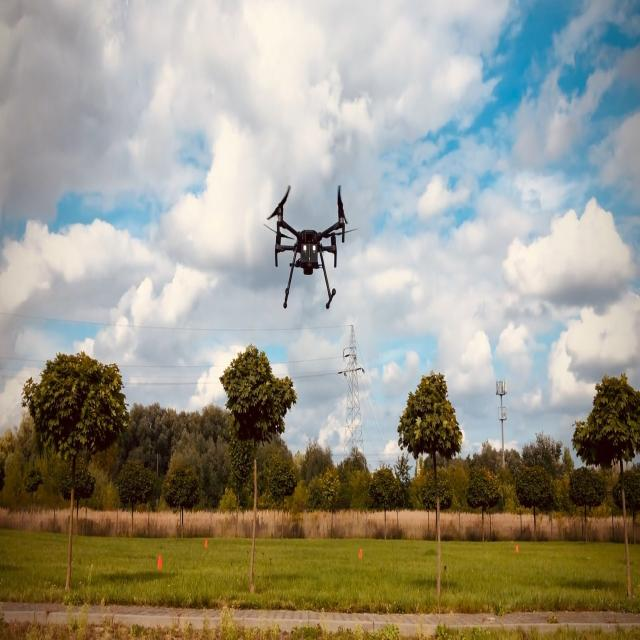drone: (262, 182, 358, 310)
